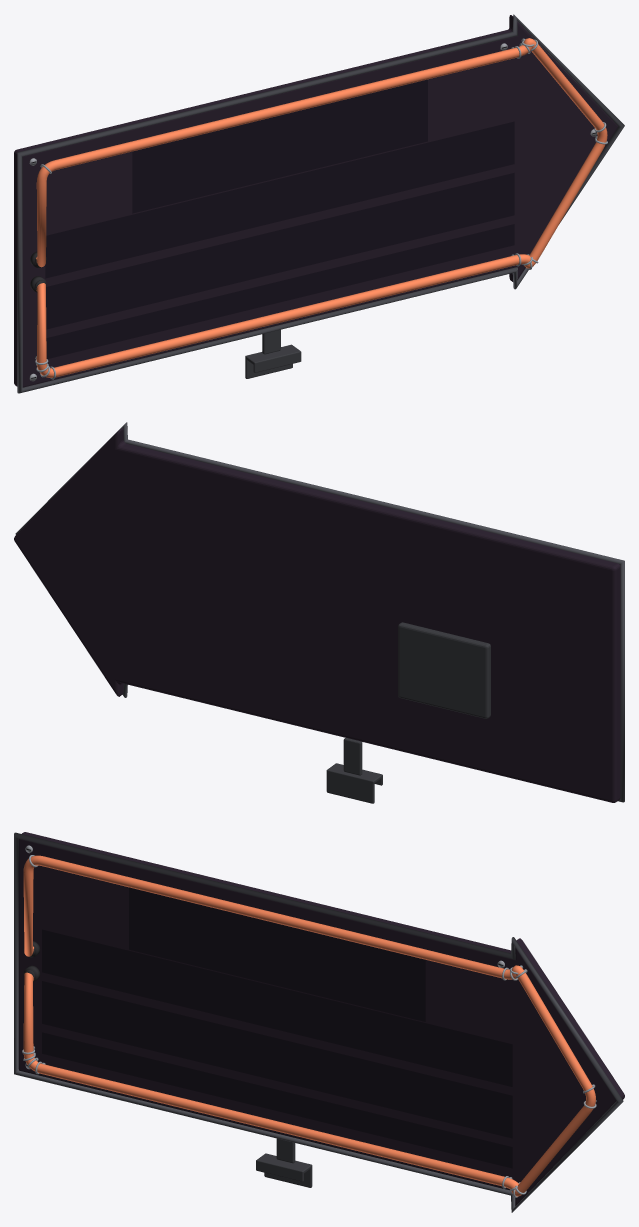
The model's file is neon-sign.glb.
3 views of the same model, one above another, from view 1: azimuth 30°, elevation 25°; view 2: azimuth 150°, elevation 25°; view 3: azimuth 330°, elevation 25° (orthographic).
Visible parts, largest first — view 1: backing, call, visit, word, tube, second-line, clip, clips; view 2: backing, clip; view 3: backing, visit, call, word, tube, second-line, clip, clips.
Part boxes in pixels (bbox=[...]): backing: bbox=[14, 14, 624, 393]; call: bbox=[45, 121, 514, 278]; visit: bbox=[46, 172, 514, 329]; word: bbox=[132, 79, 427, 213]; tube: bbox=[36, 38, 607, 377]; second-line: bbox=[46, 224, 514, 358]; clip: bbox=[245, 329, 301, 378]; clips: bbox=[35, 38, 607, 379]; backing: bbox=[14, 422, 624, 802]; clip: bbox=[326, 622, 490, 803]; backing: bbox=[14, 832, 624, 1212]; visit: bbox=[42, 981, 512, 1138]; call: bbox=[42, 929, 512, 1086]; word: bbox=[129, 887, 425, 1021]; tube: bbox=[23, 855, 595, 1196]; second-line: bbox=[42, 1032, 512, 1168]; clip: bbox=[256, 1138, 312, 1187]; clips: bbox=[22, 855, 596, 1197].
Size of the model in its own units: 1.55 by 0.7541 by 0.0877.
